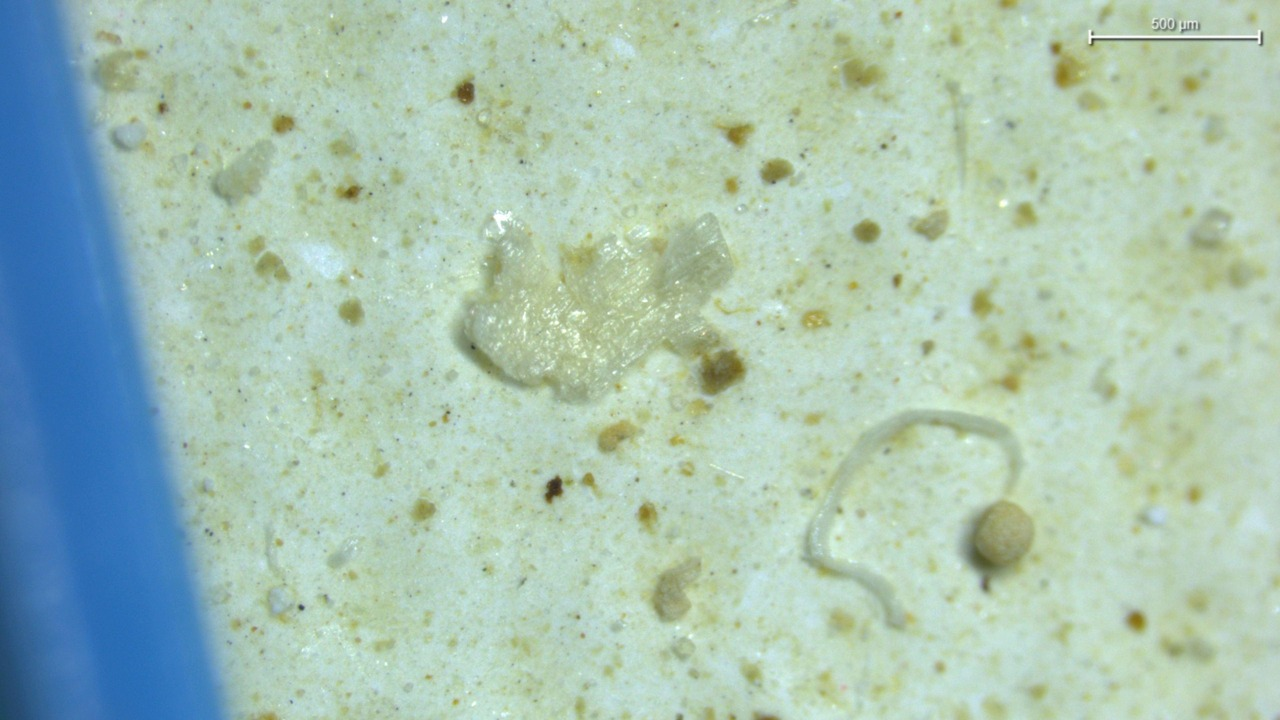microplastic_fragment: (464, 211, 733, 400), (212, 140, 276, 204), (972, 500, 1034, 566), (652, 557, 701, 621), (109, 122, 146, 151)
